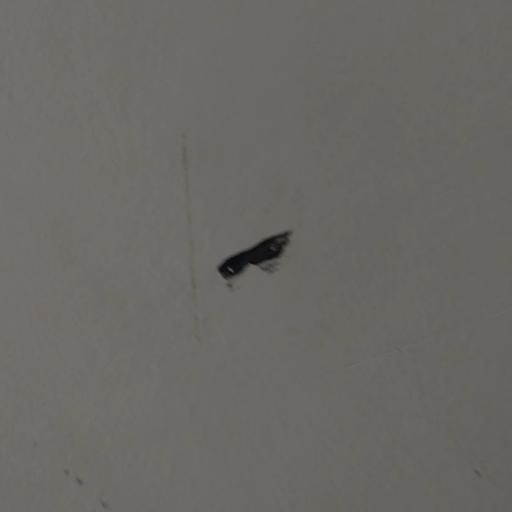stain: (166, 121, 207, 349), (209, 211, 305, 305)
